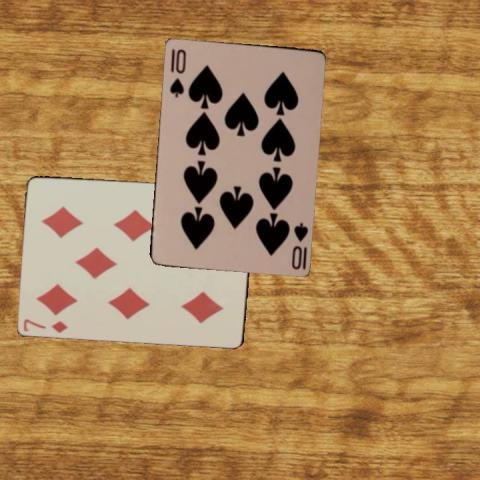10s: (288, 219, 309, 271), (167, 46, 187, 98)
7d: (21, 315, 69, 334)
